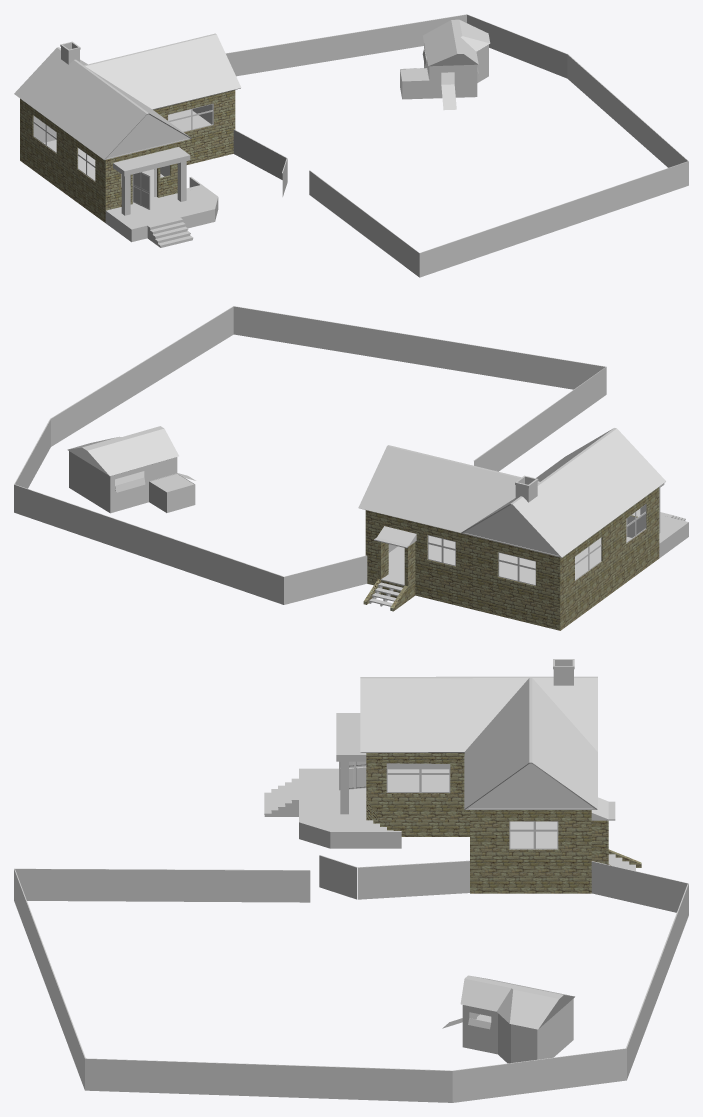
Rendered from Cottage 1.gltf.
3 renders of one model, top to bottom at view 1: azimuth 30°, elevation 25°; view 2: azimuth 150°, elevation 25°; view 3: azimuth 270°, elevation 25°, orthographic. The views are drawn at different scales.
Visible parts, largest first — view 1: Main House, Ranch Fence, Main House-Brick Wall 03 - Texture, Chicken Coop, Stairs.2, Front Door; view 2: Ranch Fence, Main House, Main House-Brick Wall 03 - Texture, Chicken Coop, Stairs; view 3: Ranch Fence, Main House, Main House-Brick Wall 03 - Texture, Chicken Coop, Fence Door, Stairs.2.
Boxes of the visible parts, left/top/right/bottom form: Main House: left=14, top=33, right=241, bottom=242; Ranch Fence: left=225, top=14, right=688, bottom=277; Main House-Brick Wall 03 - Texture: left=20, top=90, right=235, bottom=222; Chicken Coop: left=400, top=19, right=490, bottom=110; Stairs.2: left=147, top=217, right=193, bottom=247; Front Door: left=133, top=172, right=150, bottom=209; Ranch Fence: left=14, top=306, right=606, bottom=604; Main House: left=358, top=428, right=688, bottom=585; Main House-Brick Wall 03 - Texture: left=363, top=487, right=659, bottom=630; Chicken Coop: left=67, top=426, right=195, bottom=513; Stairs: left=369, top=577, right=404, bottom=606; Ranch Fence: left=14, top=860, right=688, bottom=1102; Main House: left=299, top=659, right=615, bottom=849; Main House-Brick Wall 03 - Texture: left=366, top=753, right=641, bottom=893; Chicken Coop: left=442, top=975, right=574, bottom=1063; Fence Door: left=319, top=855, right=357, bottom=899; Stairs.2: left=264, top=778, right=298, bottom=816.
Size of the model in its own units: 50.25 by 10.87 by 44.79.
1 material, 1 textured.
